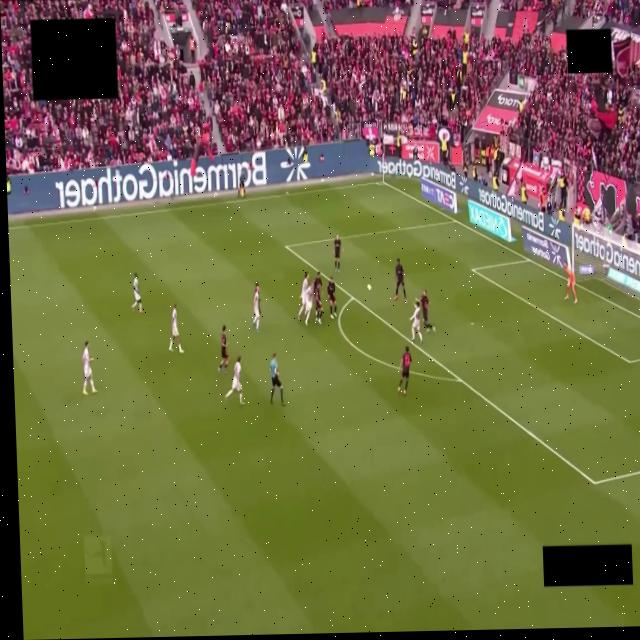ball: (367, 284, 370, 290)
player: (225, 356, 242, 404), (82, 341, 96, 395), (397, 346, 411, 395), (419, 291, 435, 332), (169, 304, 182, 353), (393, 258, 407, 302), (563, 264, 577, 303), (297, 272, 308, 321), (409, 301, 421, 342), (218, 325, 228, 371), (131, 272, 142, 313), (313, 278, 322, 324), (327, 279, 336, 319), (252, 283, 259, 330), (305, 284, 313, 324), (333, 235, 341, 272), (314, 271, 321, 288)
referee: (270, 353, 283, 405)
